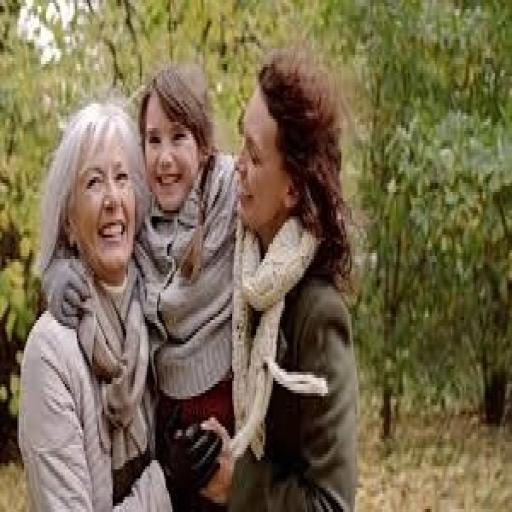hugging: (20, 49, 362, 509), (17, 94, 176, 509)
